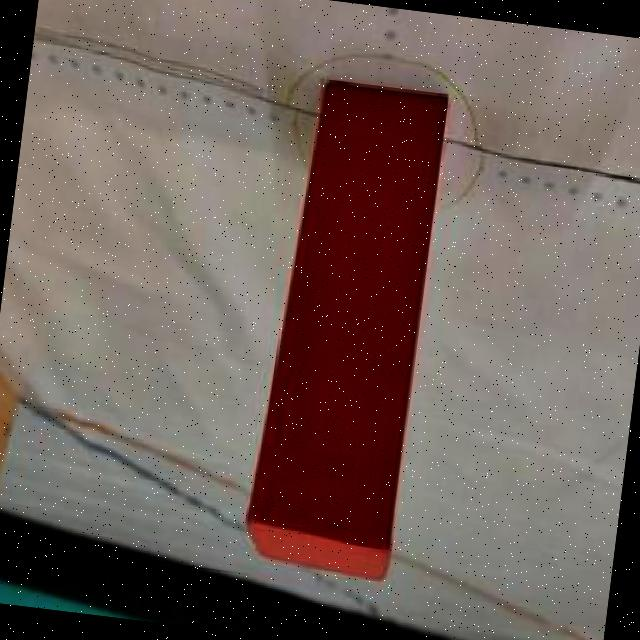redbox: (240, 79, 449, 578)
